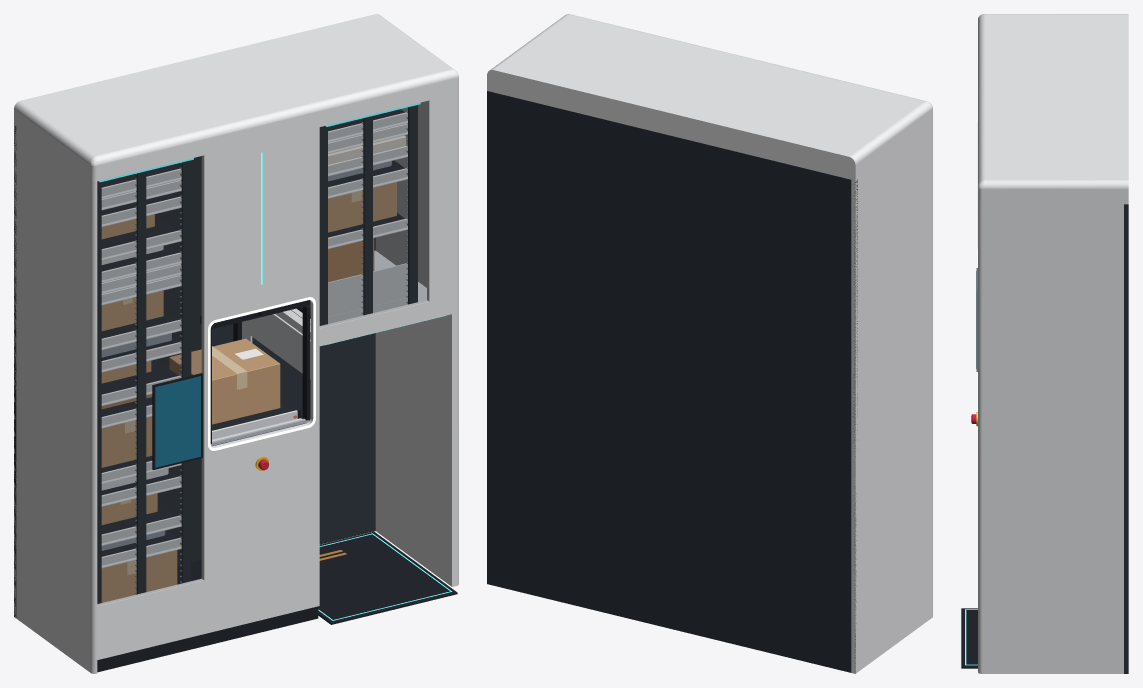
The model's file is station_v2.glb.
3 renders of one model, left to right at view 1: azimuth 30°, elevation 25°; view 2: azimuth 150°, elevation 25°; view 3: azimuth 270°, elevation 25°, orthographic. The views are drawn at different scales.
Parts seen in each view (by area): view 1: station_end, station_glass_a, station_back, ltray_frame, station_a_posts, ltray_box, station_dock_plate, ltray_belt, station_screen, station_canopy, station_plinth, station_bay_wall (+10 smaller); view 2: station_back, station_end; view 3: station_end, station_back, station_dock_plate, station_spine.
Part boxes in pixels (x1,y1,x2,y2): station_end: (14, 14, 458, 673); station_glass_a: (97, 101, 428, 605); station_back: (14, 126, 375, 617); ltray_frame: (101, 112, 407, 568); station_a_posts: (97, 105, 417, 603); ltray_box: (101, 182, 396, 602); station_dock_plate: (296, 409, 457, 624); ltray_belt: (101, 109, 404, 556); station_screen: (155, 376, 200, 467); station_canopy: (275, 250, 426, 339); station_plinth: (97, 560, 318, 672); station_bay_wall: (242, 314, 310, 379); station_back: (487, 91, 857, 673); station_end: (487, 14, 932, 673); station_end: (978, 14, 1128, 673); station_back: (1124, 204, 1128, 673); station_dock_plate: (961, 608, 977, 668); station_spine: (965, 122, 977, 665).
Size of the model in its own units: 1.72 by 2.3 by 0.71.
